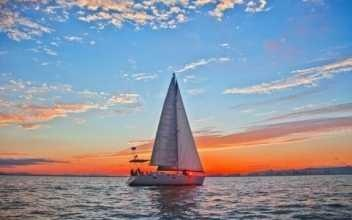fanchuan: (128, 68, 223, 186)
